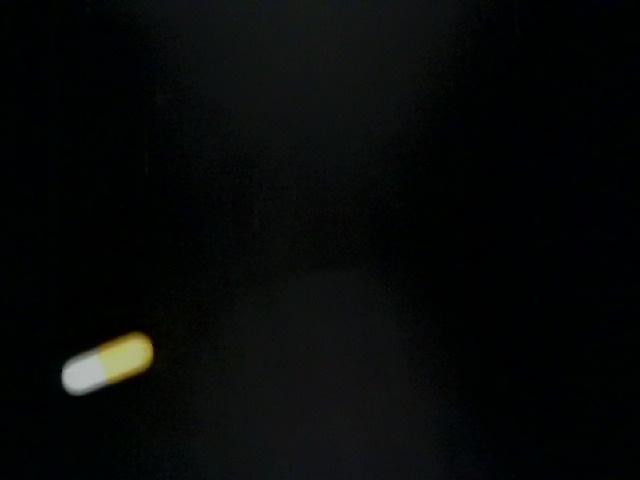YHLJ: (330, 130, 410, 197)
